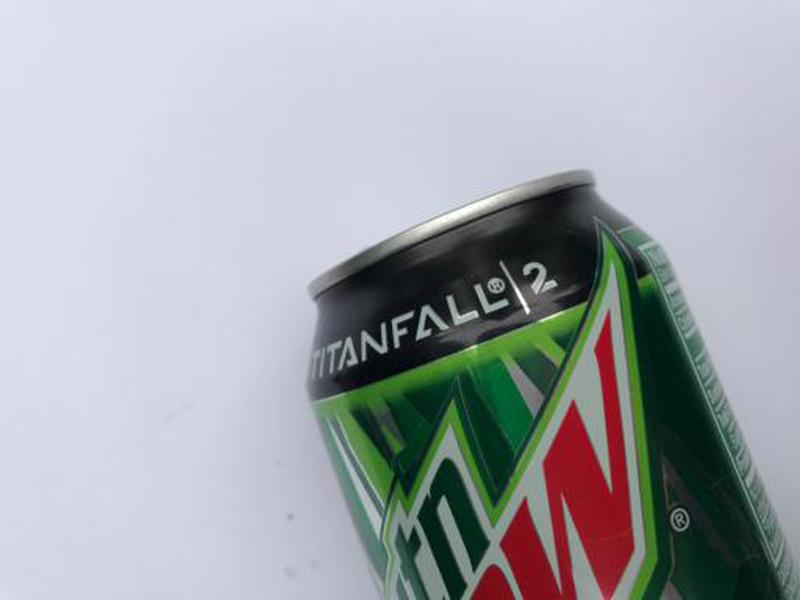can: (300, 165, 800, 600)
